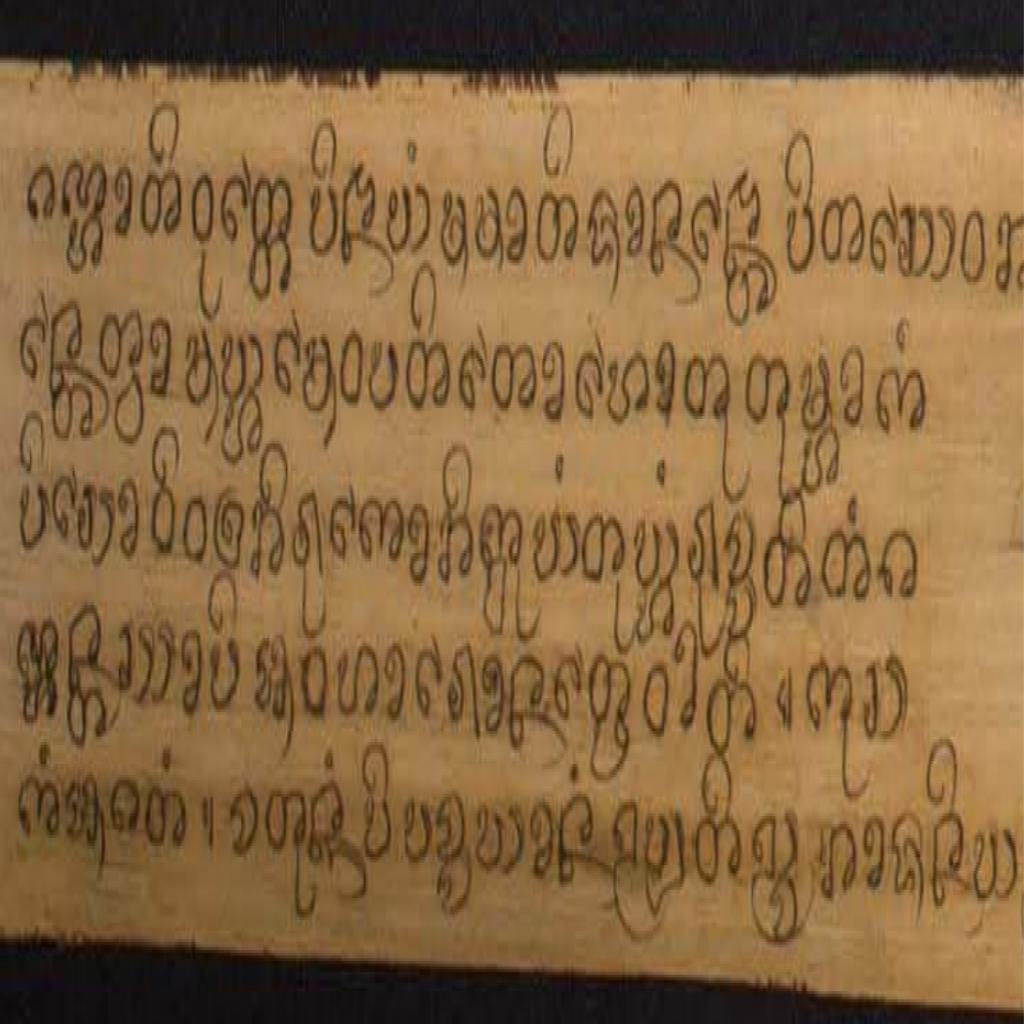LN008: (587, 180, 624, 277)
